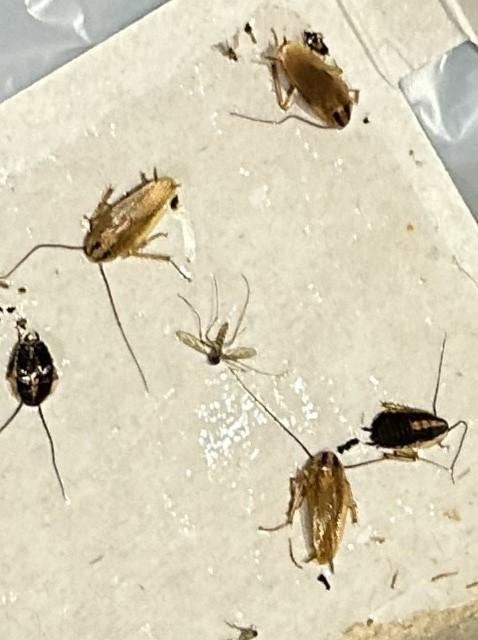cockroach: (195, 379, 400, 615), (24, 152, 203, 386), (195, 4, 405, 200), (0, 283, 128, 539), (316, 324, 478, 486)
